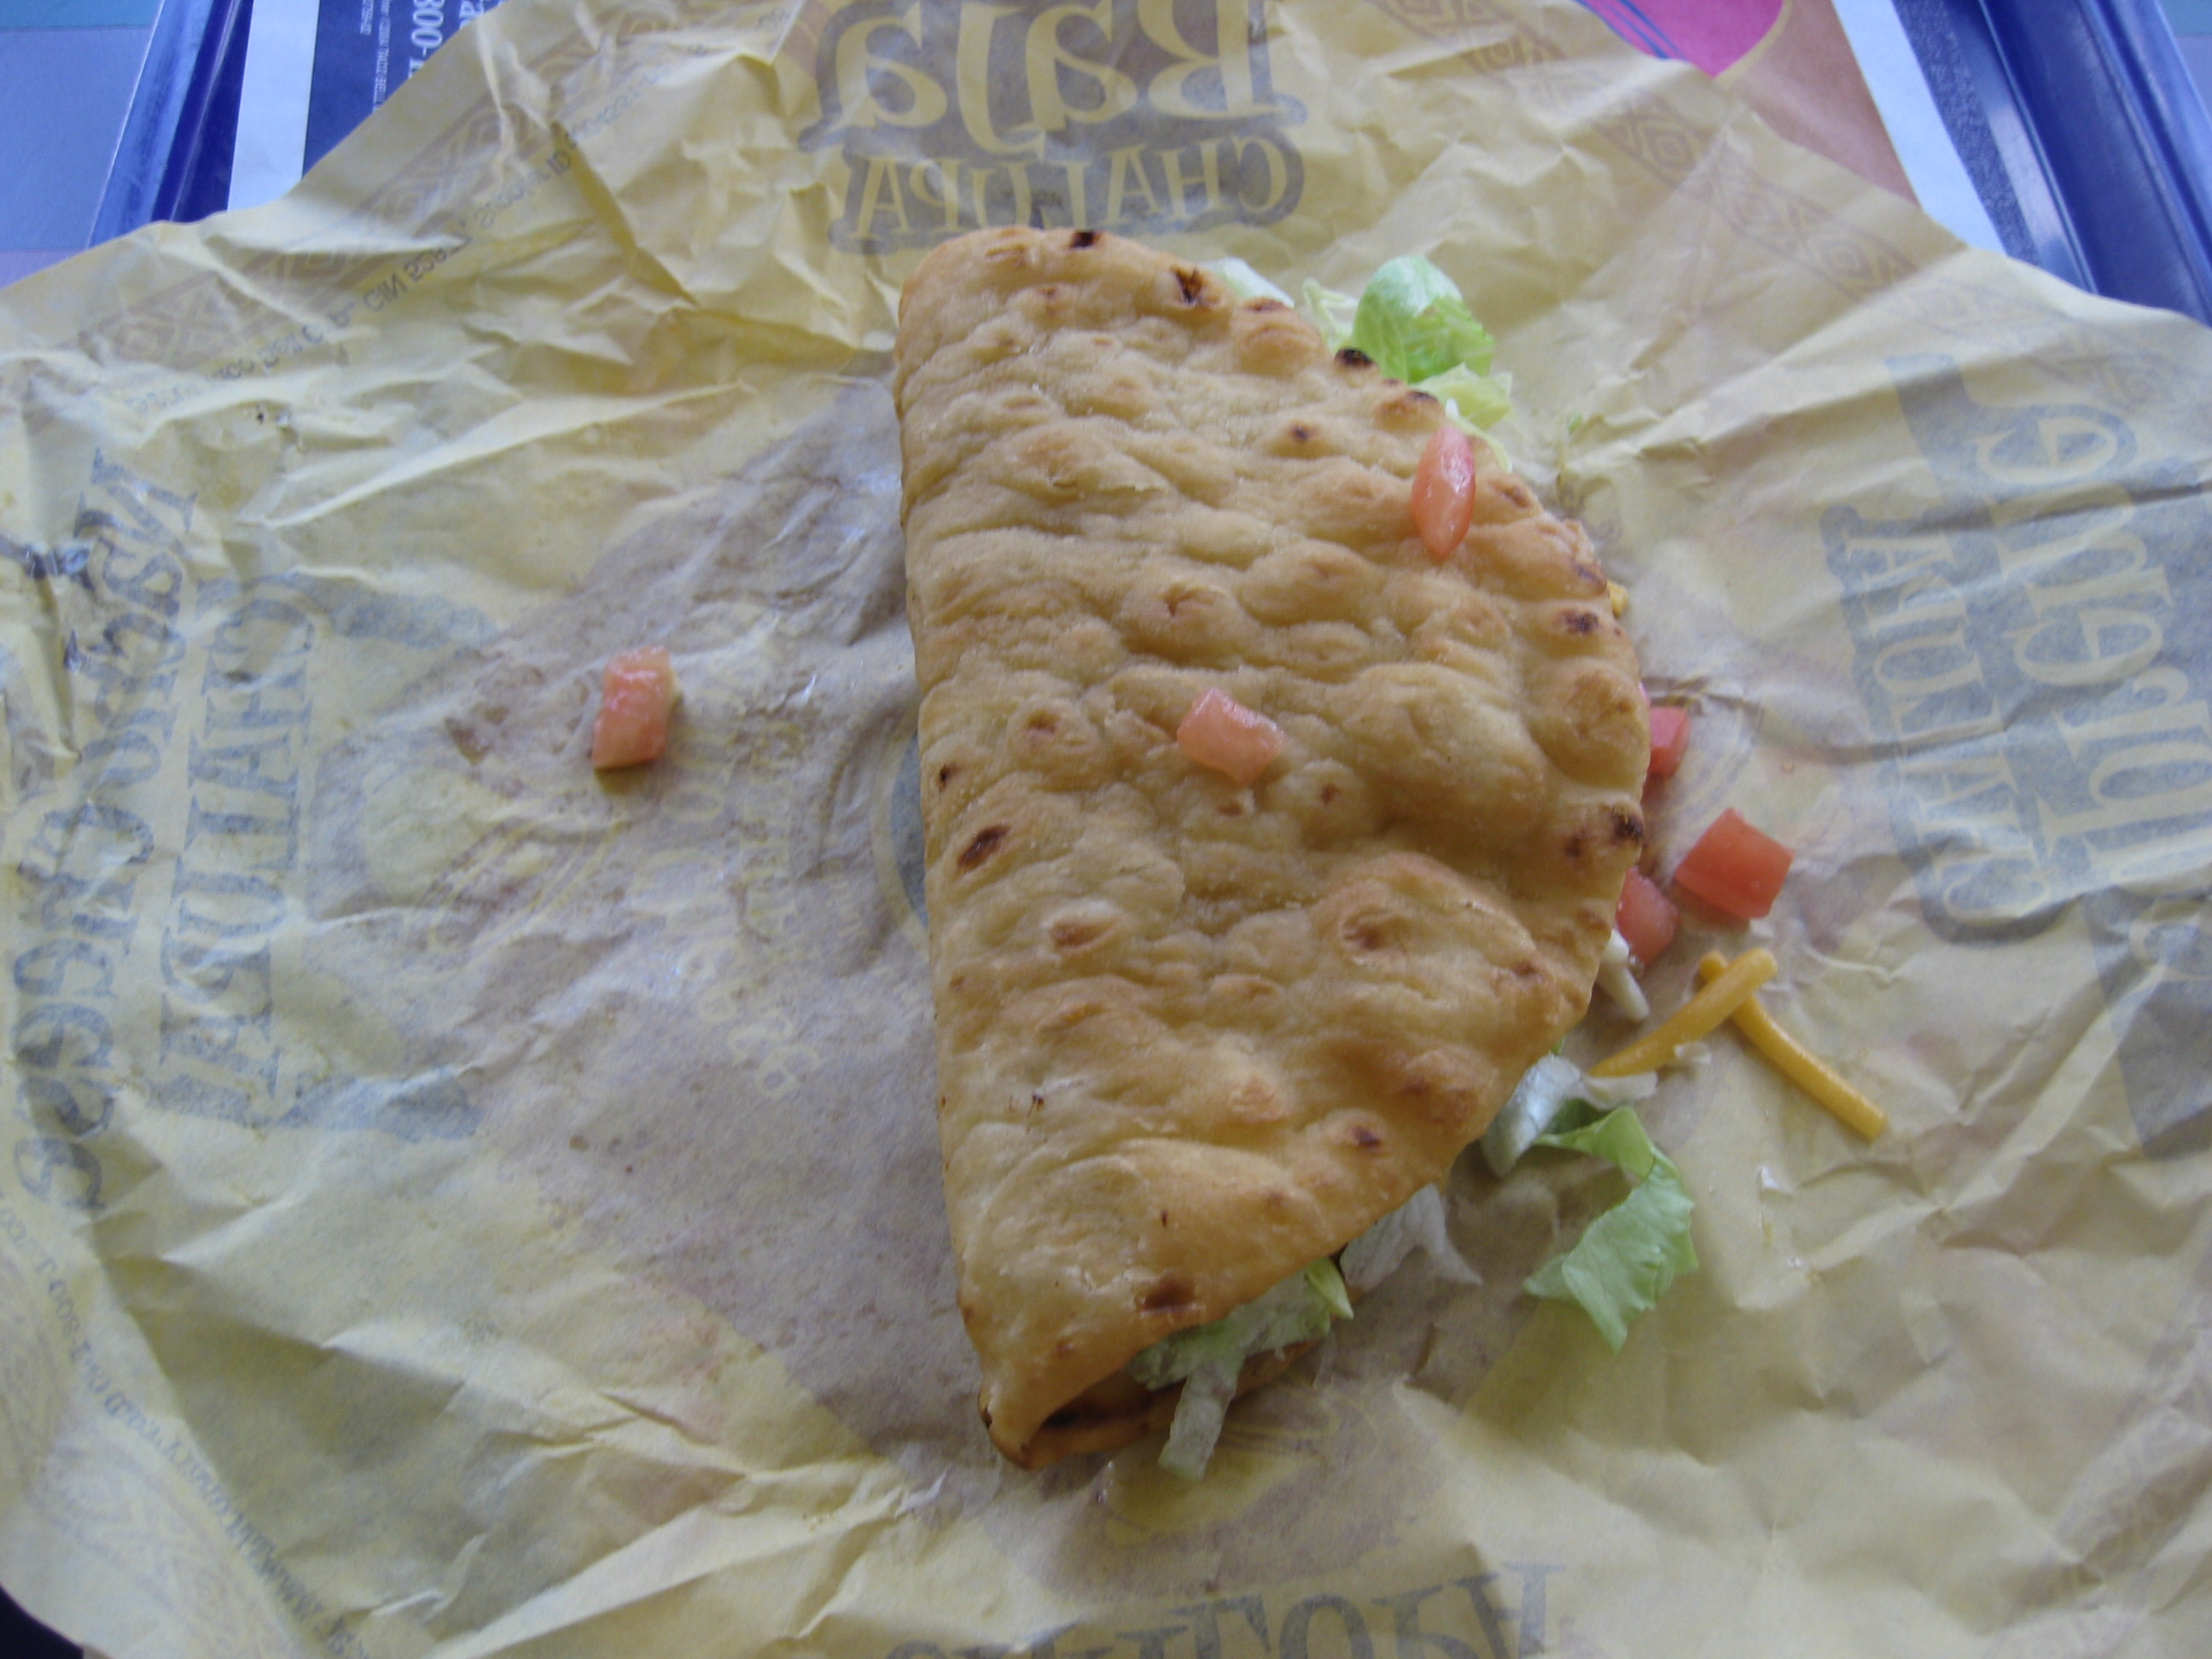taco: (848, 168, 1813, 1493)
